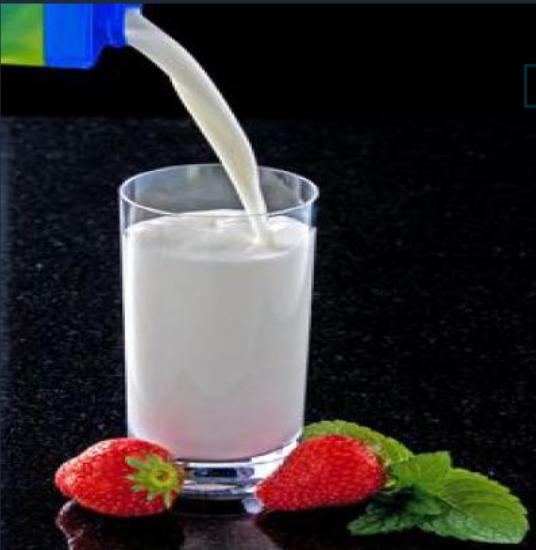buah_sayur_lainnya: (393, 462, 526, 539)
buah_sayur_vitA: (277, 450, 379, 502), (79, 453, 167, 509)
produk_susu: (134, 178, 299, 436)
